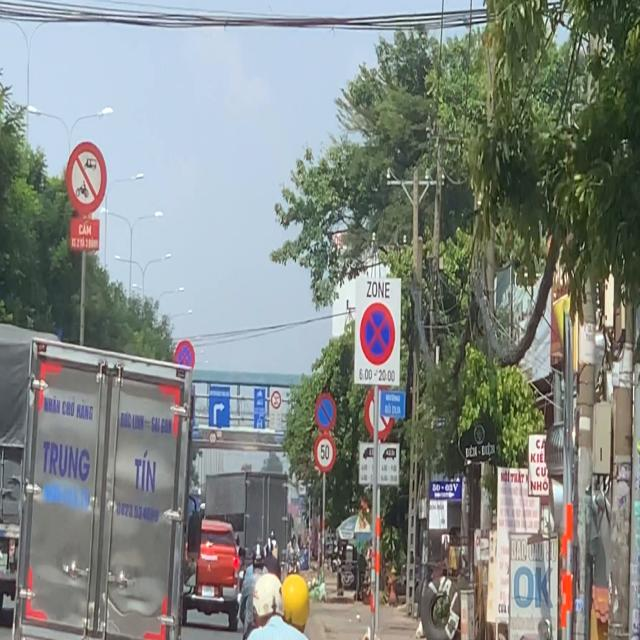Cam do: (315, 392, 336, 432)
Cam dung va do: (360, 302, 395, 366), (175, 340, 195, 376)
Chieu cao toi da: (209, 430, 217, 445)
Toc do toi da: (314, 432, 336, 473)
